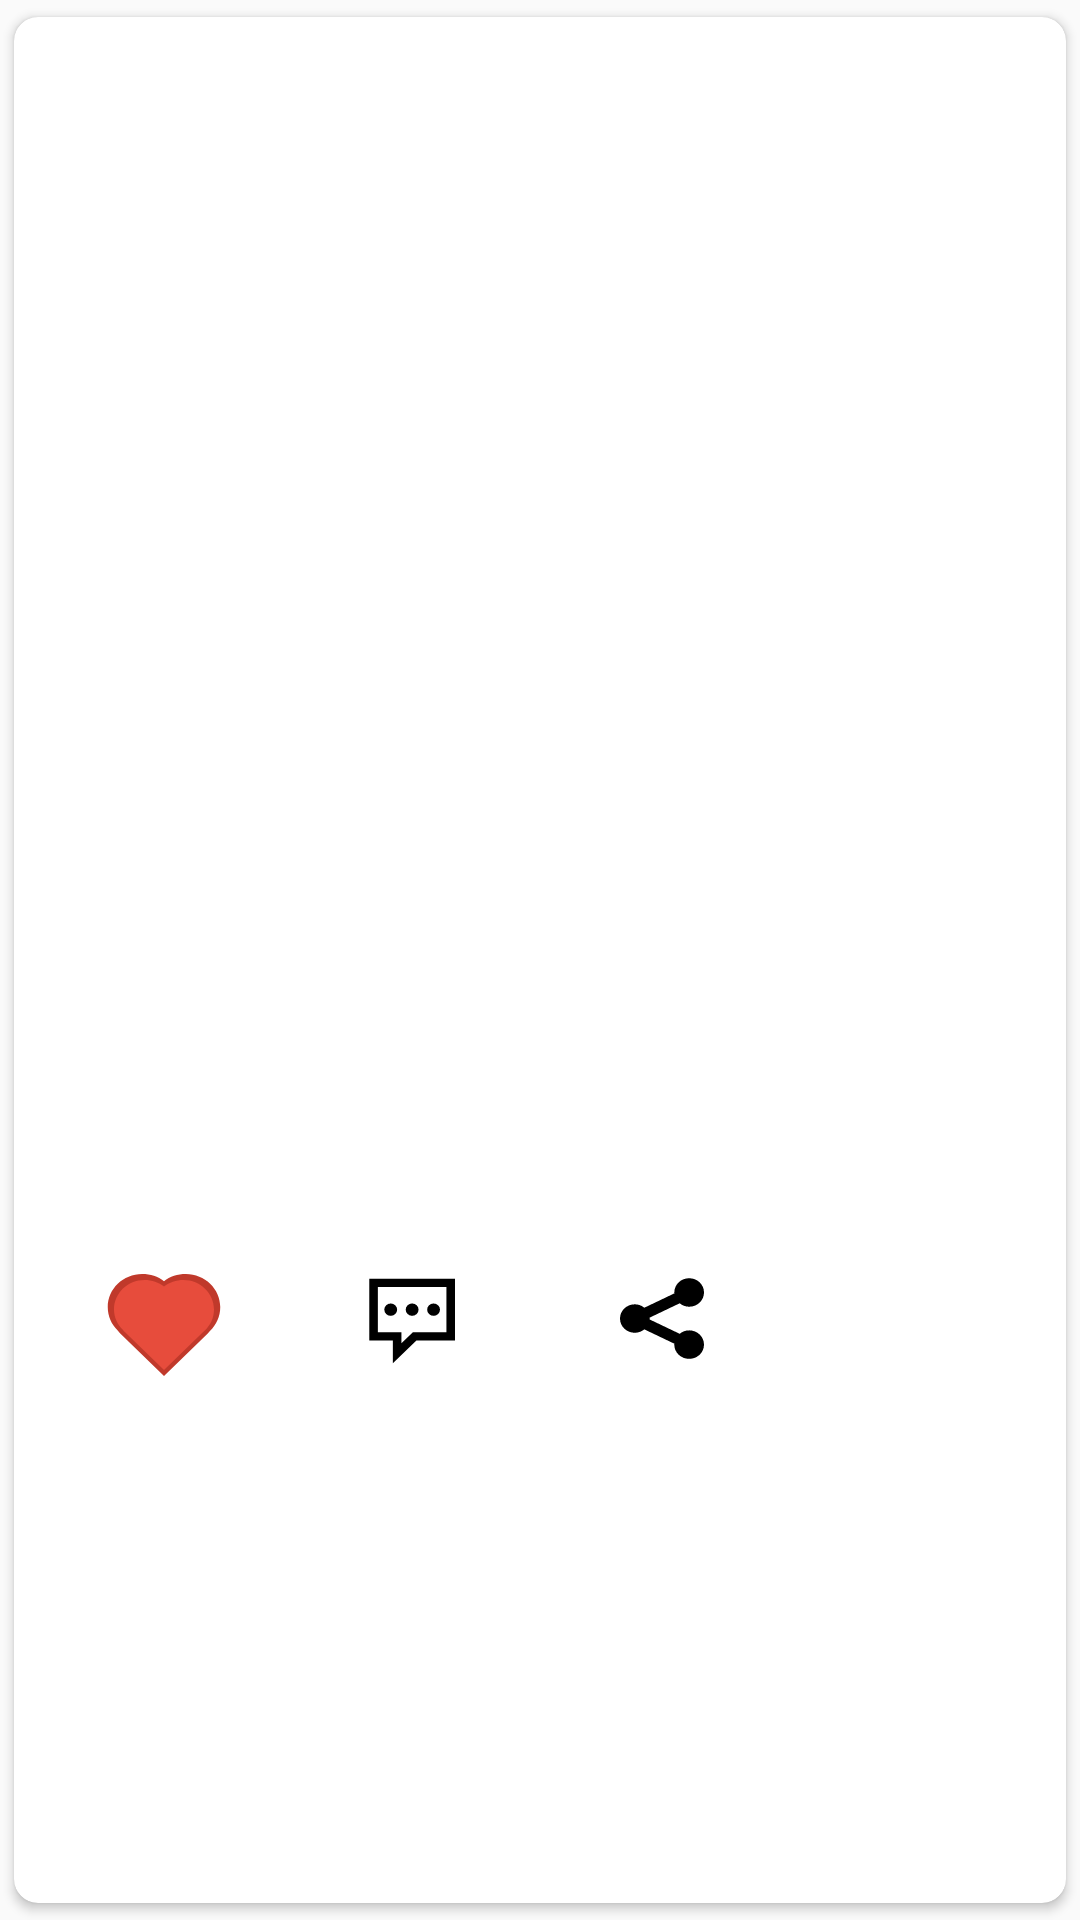

Icons on this 1080*1920 Android screen, each with its box as Rect(x1, y1, x2, y2):
heart: Rect(107, 1274, 221, 1376)
iconfinder chat: Rect(369, 1278, 455, 1363)
social share: Rect(620, 1278, 704, 1359)
